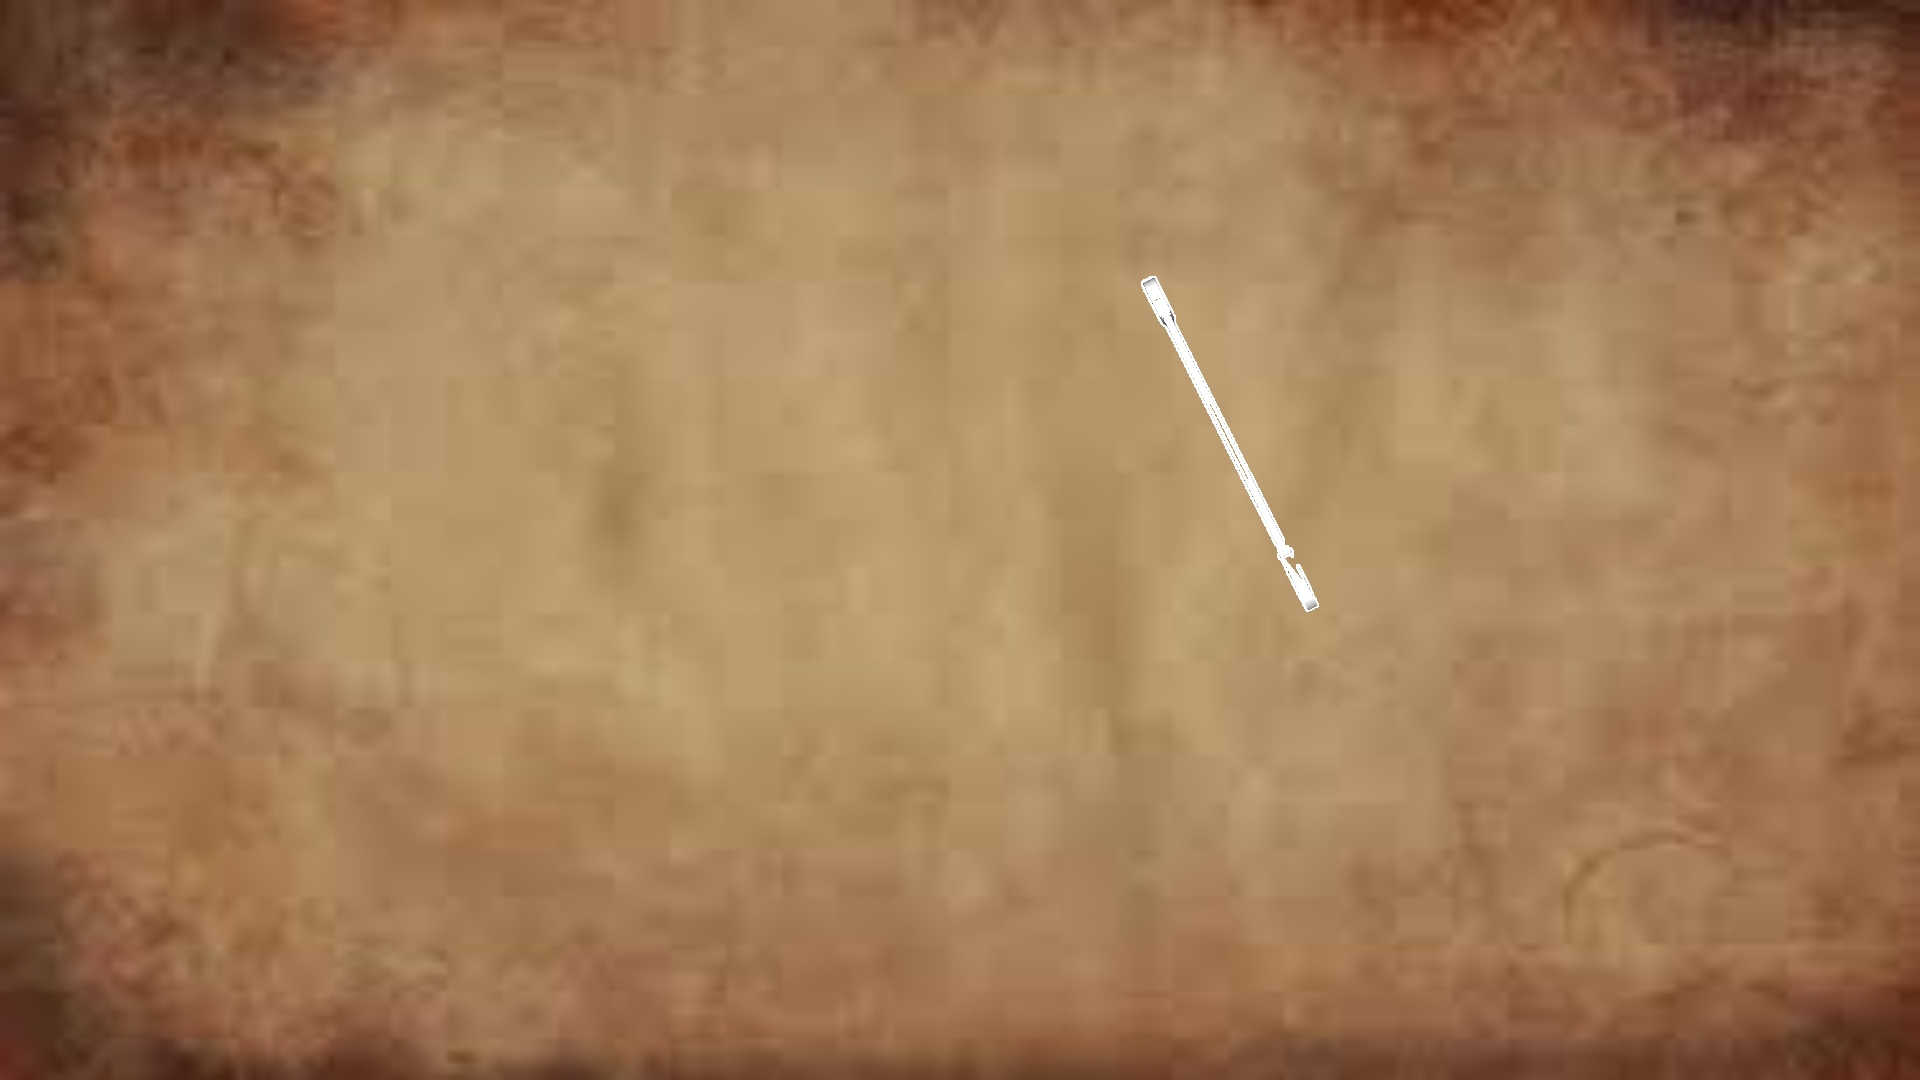Mixed Key: (1141, 276, 1317, 611)
